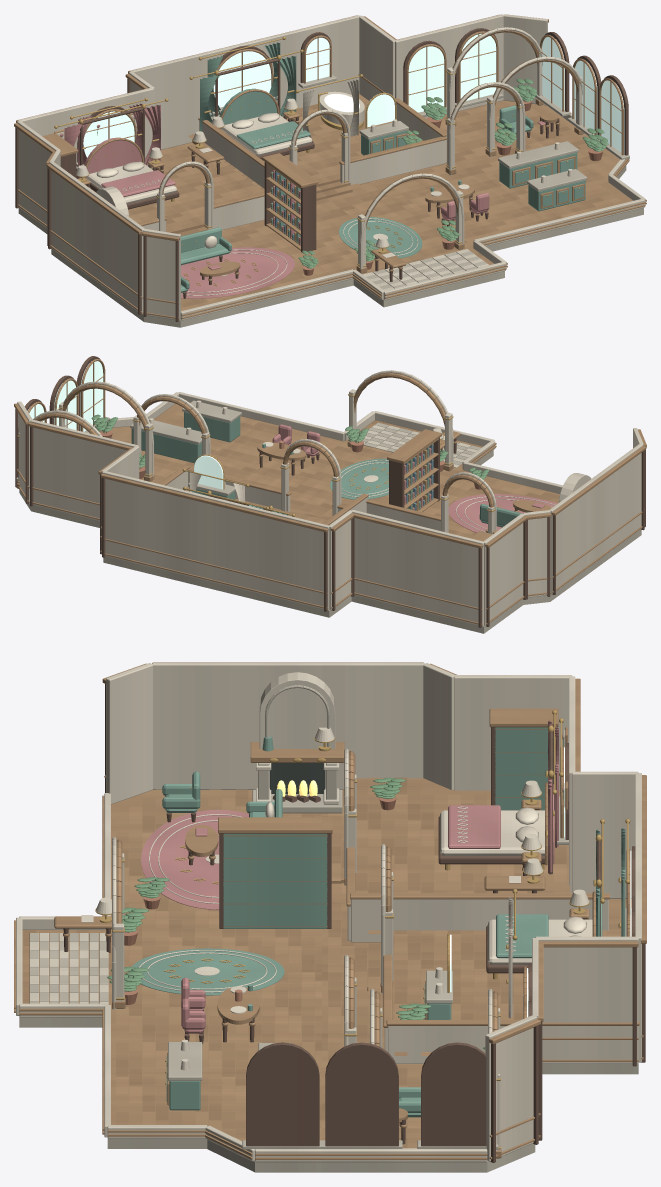
The model's file is home-interior.glb.
The picture shows the model from 3 angles, top to bottom: view 1: azimuth 30°, elevation 25°; view 2: azimuth 150°, elevation 25°; view 3: azimuth 270°, elevation 25°; orthographic projection. The views are drawn at different scales.
Visible parts, largest first — view 1: Forest hamlet; view 2: Forest hamlet; view 3: Forest hamlet.
Part boxes in pixels (<box>): Forest hamlet: <box>14,14,646,327</box>; Forest hamlet: <box>14,356,646,633</box>; Forest hamlet: <box>14,662,646,1172</box>.
Size of the model in its own units: 24.28 by 4.2 by 17.17.
Materials: 18 (18 with a texture image).
